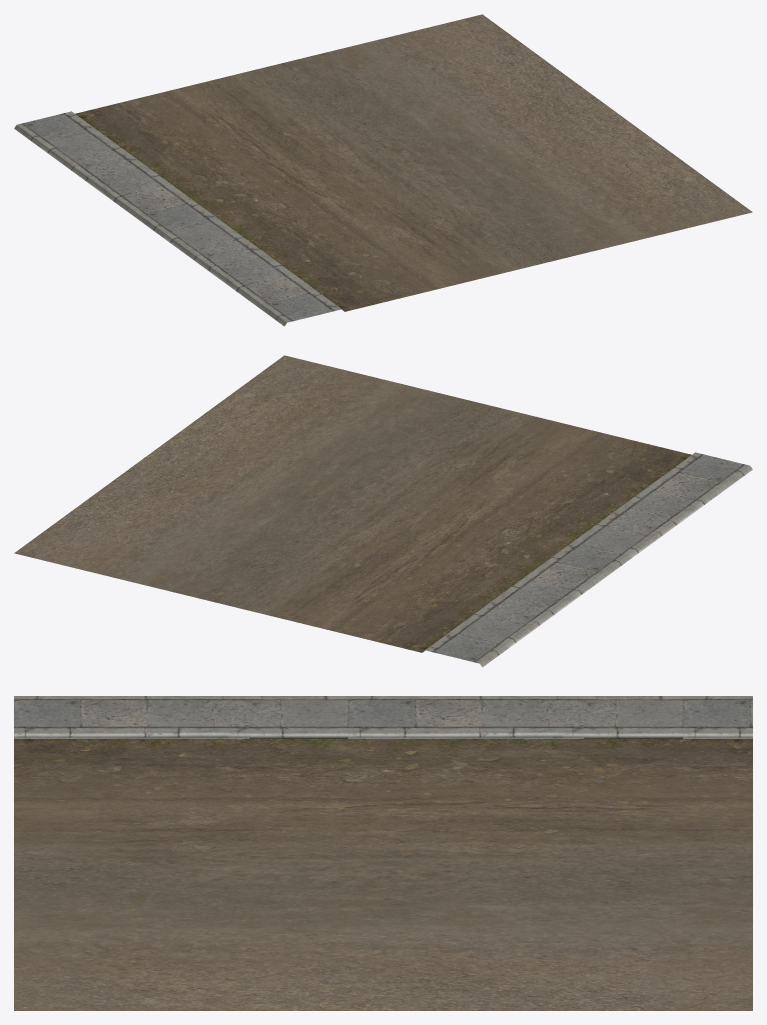
Rendered from bg_lut_lucastle_pattrenfloor01_sm_jjy.FBX.
3 views of the same model, one above another, from view 1: azimuth 30°, elevation 25°; view 2: azimuth 150°, elevation 25°; view 3: azimuth 270°, elevation 25° (orthographic). The views are drawn at different scales.
Parts seen in each view (by area): view 1: bg_lut_lucastle_pattrenfloor01_sm_jjy; view 2: bg_lut_lucastle_pattrenfloor01_sm_jjy; view 3: bg_lut_lucastle_pattrenfloor01_sm_jjy.
Part boxes in pixels (left/top/right/bottom): bg_lut_lucastle_pattrenfloor01_sm_jjy: left=14, top=14, right=752, bottom=326; bg_lut_lucastle_pattrenfloor01_sm_jjy: left=14, top=355, right=752, bottom=667; bg_lut_lucastle_pattrenfloor01_sm_jjy: left=14, top=696, right=752, bottom=1010.
Bounding box in the file's own units: 768 × 5.11 × 768.
